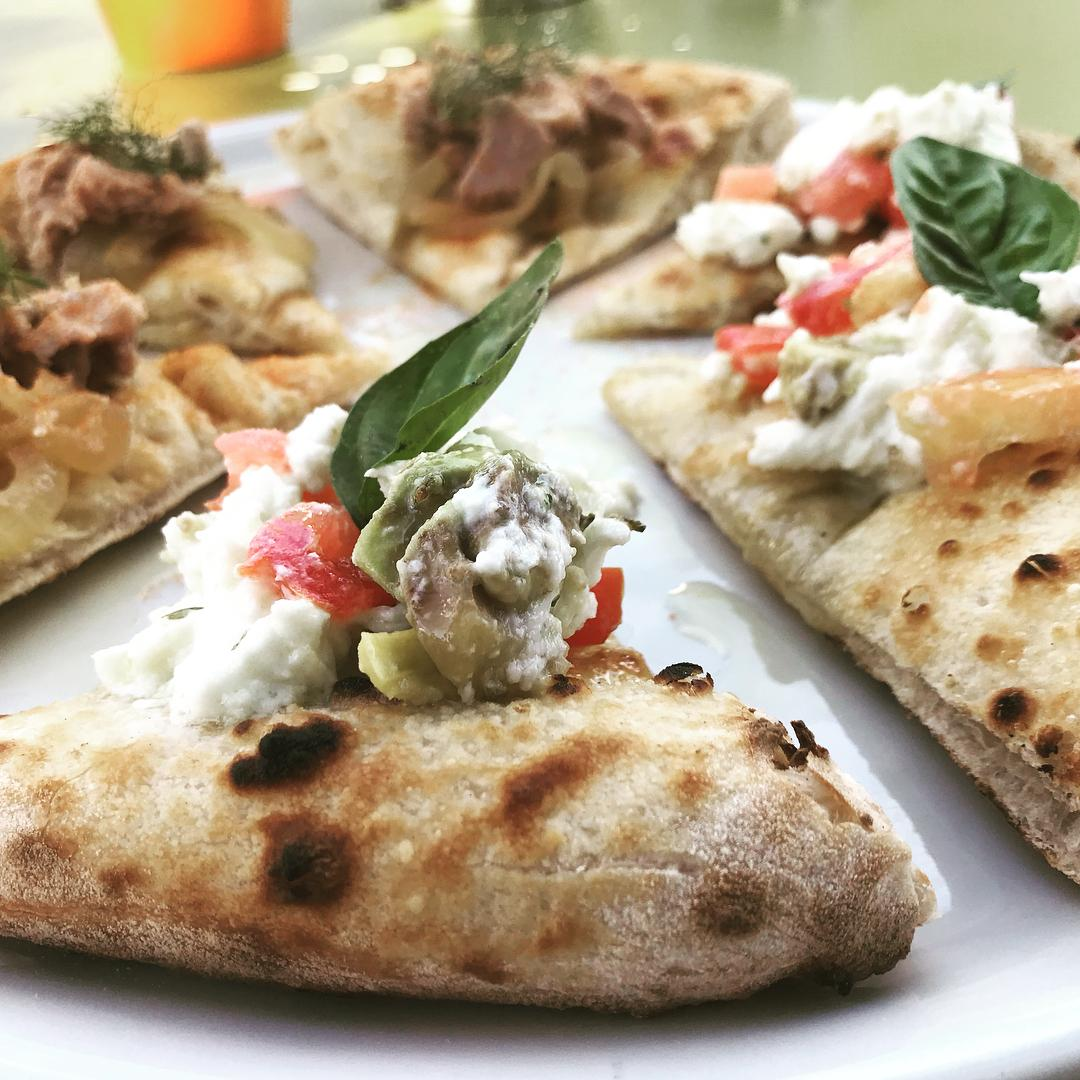Basil: (325, 227, 571, 534), (887, 124, 1080, 328)
Cheese: (677, 195, 805, 268)
Onion: (0, 370, 130, 572)
Pizza: (0, 42, 1080, 1017)
Tomatoes: (240, 493, 410, 617), (785, 250, 914, 342), (708, 313, 807, 403), (801, 133, 894, 221), (558, 565, 633, 651), (710, 153, 787, 213)
